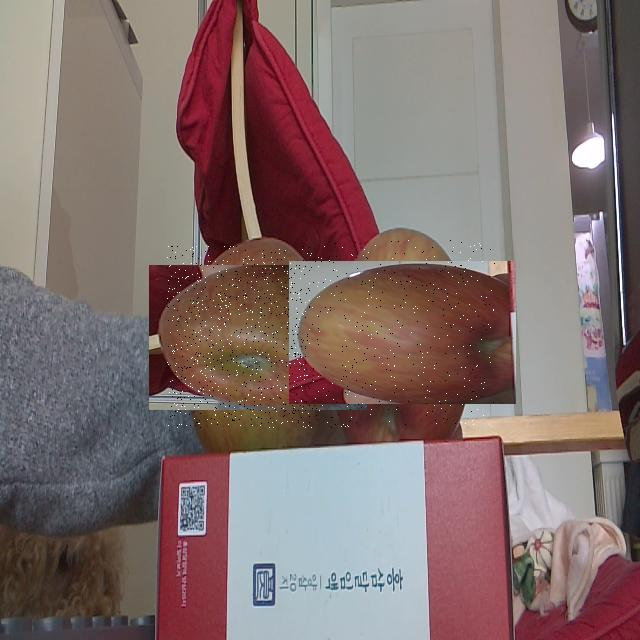apple: (310, 240, 496, 425), (167, 246, 349, 428)
